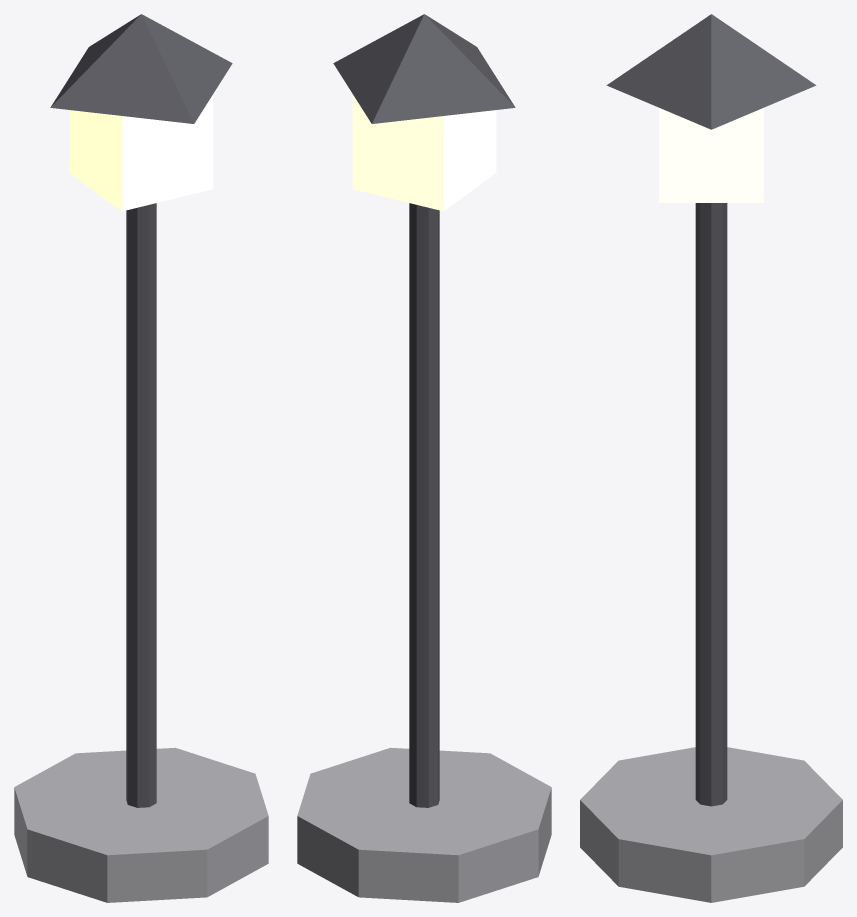
File: prop.glb
3 renders of one model, left to right at view 1: azimuth 30°, elevation 25°; view 2: azimuth 150°, elevation 25°; view 3: azimuth 270°, elevation 25°, orthographic.
Parts seen in each view (by area): view 1: Base, Pole, Roof, Lamp; view 2: Base, Pole, Roof, Lamp; view 3: Base, Pole, Roof, Lamp.
Part boxes in pixels (left/top/right/bottom): Base: left=14, top=747, right=268, bottom=902; Pole: left=126, top=203, right=156, bottom=807; Roof: left=50, top=14, right=232, bottom=123; Lamp: left=69, top=94, right=213, bottom=211; Base: left=297, top=747, right=551, bottom=902; Pole: left=409, top=203, right=439, bottom=807; Roof: left=333, top=14, right=515, bottom=123; Lamp: left=352, top=94, right=496, bottom=211; Base: left=580, top=747, right=842, bottom=902; Pole: left=695, top=203, right=727, bottom=806; Roof: left=606, top=14, right=816, bottom=129; Lamp: left=659, top=108, right=763, bottom=202.
Bounding box in the file's own units: 1 × 3.5 × 1.
